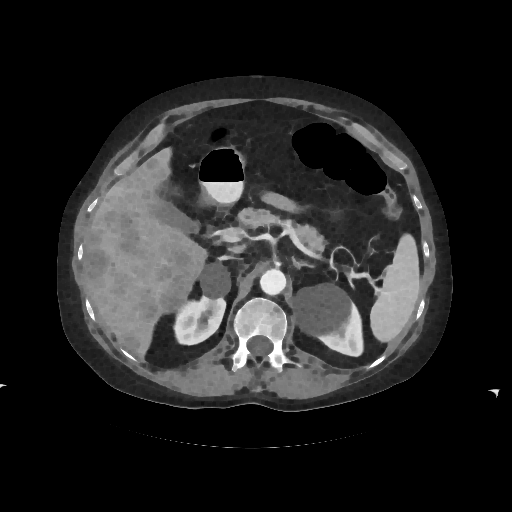Lesion: (286, 280, 354, 338)
